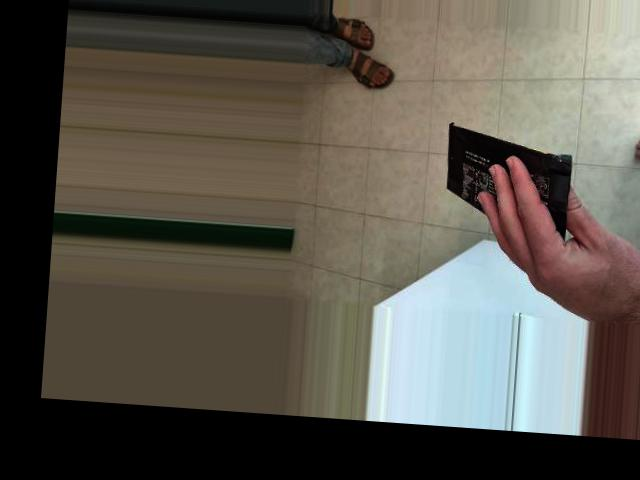chocolate: (394, 12, 530, 169)
